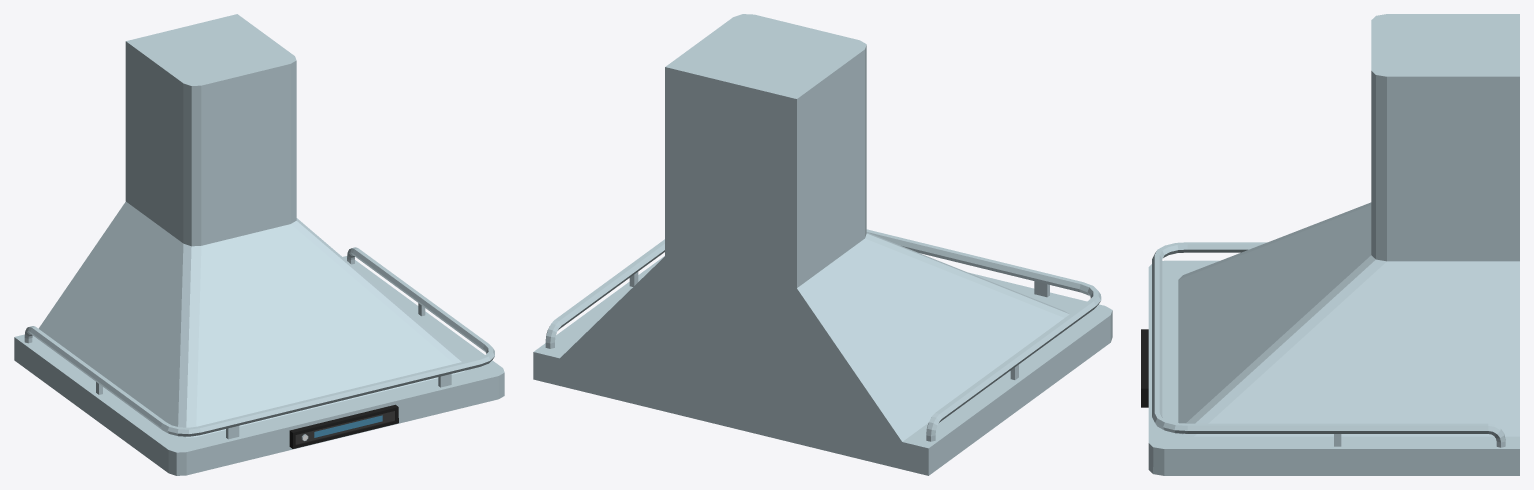
The model's file is KA-F600_Fan_V1.glb.
3 views of the same model, side by side, from view 1: azimuth 30°, elevation 25°; view 2: azimuth 150°, elevation 25°; view 3: azimuth 270°, elevation 25° (orthographic). The views are drawn at different scales.
Parts seen in each view (by area): view 1: KA-F600_Fan_V1; view 2: KA-F600_Fan_V1; view 3: KA-F600_Fan_V1.
Part boxes in pixels (left/top/right/bottom): KA-F600_Fan_V1: left=14, top=14, right=504, bottom=475; KA-F600_Fan_V1: left=533, top=14, right=1112, bottom=475; KA-F600_Fan_V1: left=1141, top=14, right=1519, bottom=475.
Size of the model in its own units: 0.6 by 0.5 by 0.51.
Materials: 1 (1 with a texture image).
